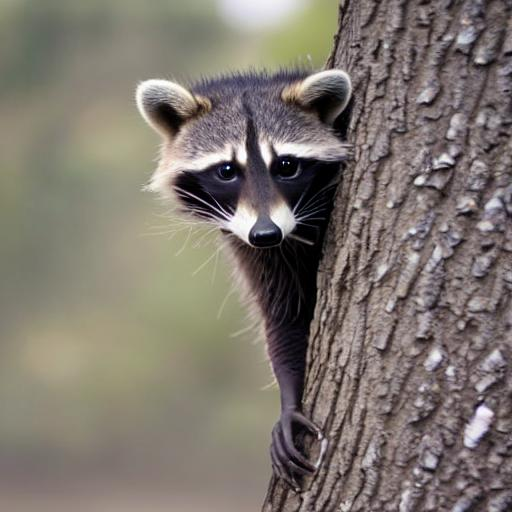raccoon: (127, 52, 362, 392)
